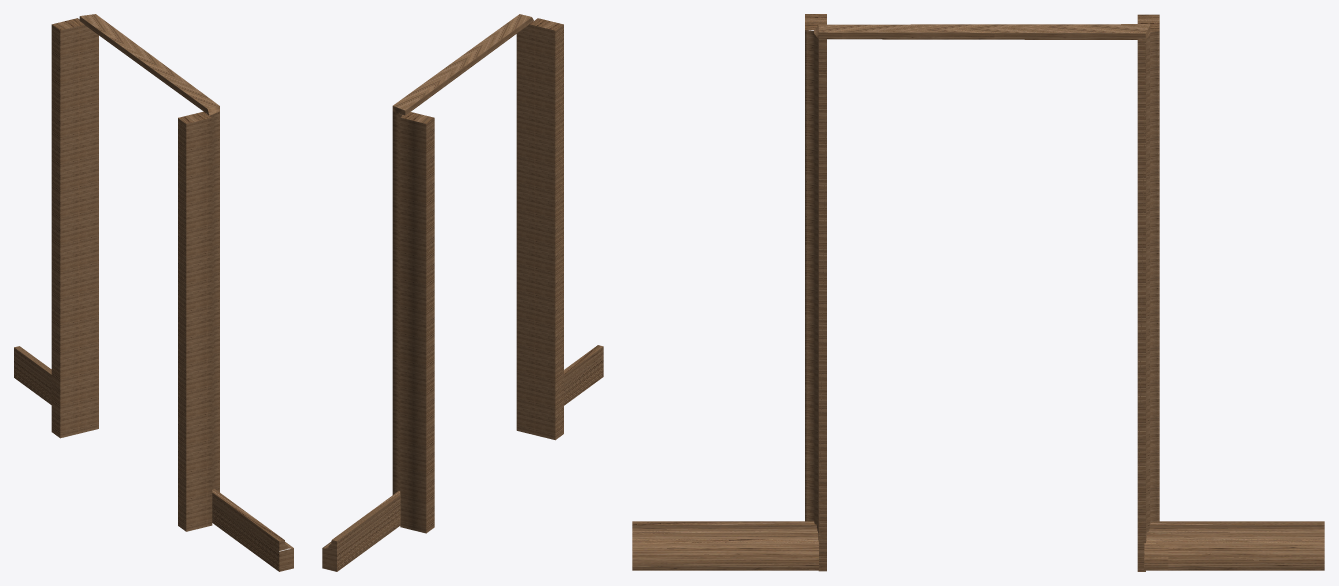
The model's file is soupdoortrim003.glb.
3 views of the same model, side by side, from view 1: azimuth 30°, elevation 25°; view 2: azimuth 150°, elevation 25°; view 3: azimuth 270°, elevation 25° (orthographic). The views are drawn at different scales.
Parts seen in each view (by area): view 1: soupdoortrim003_high_1; view 2: soupdoortrim003_high_1; view 3: soupdoortrim003_high_1.
Part boxes in pixels (box(x1,y1,x2,y2)): soupdoortrim003_high_1: box(14, 14, 293, 571); soupdoortrim003_high_1: box(322, 14, 603, 571); soupdoortrim003_high_1: box(632, 14, 1324, 571).
Bounding box in the file's own units: 0.2435 × 2.32 × 2.7.
1 material, 1 textured.
